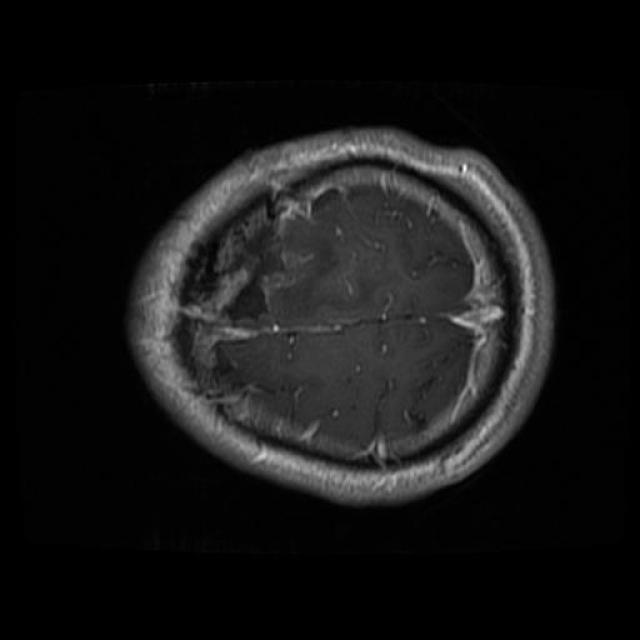Glioma: (180, 186, 313, 328)
